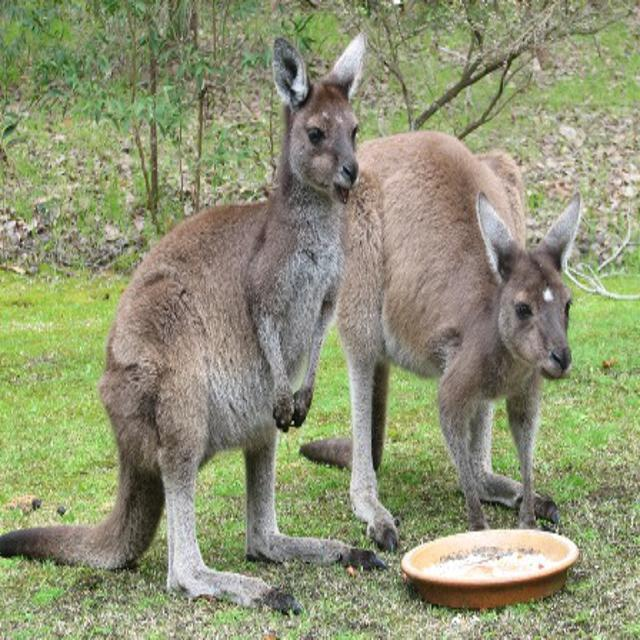kangaroo: (105, 34, 371, 604), (372, 152, 598, 519)
